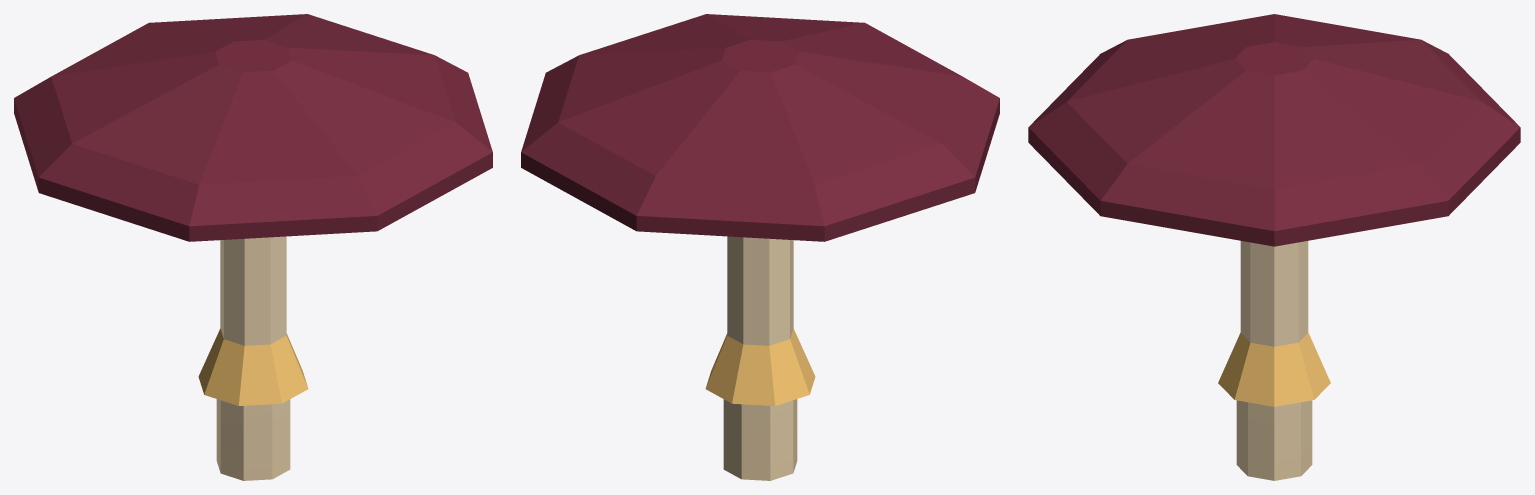
File: SM_Mushroom1.fbx
3 views of the same model, side by side, from view 1: azimuth 30°, elevation 25°; view 2: azimuth 150°, elevation 25°; view 3: azimuth 270°, elevation 25° (orthographic).
Parts seen in each view (by area): view 1: SM_Mushroom1; view 2: SM_Mushroom1; view 3: SM_Mushroom1.
Part boxes in pixels (x1,y1,x2,y2): SM_Mushroom1: (14, 14, 492, 480); SM_Mushroom1: (521, 14, 999, 480); SM_Mushroom1: (1028, 14, 1520, 480).
Size of the model in its own units: 794 by 724 by 794.
